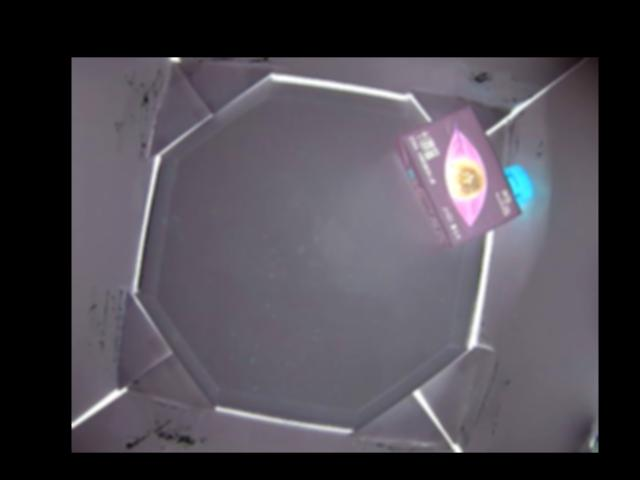Bottle: (392, 102, 536, 248)
